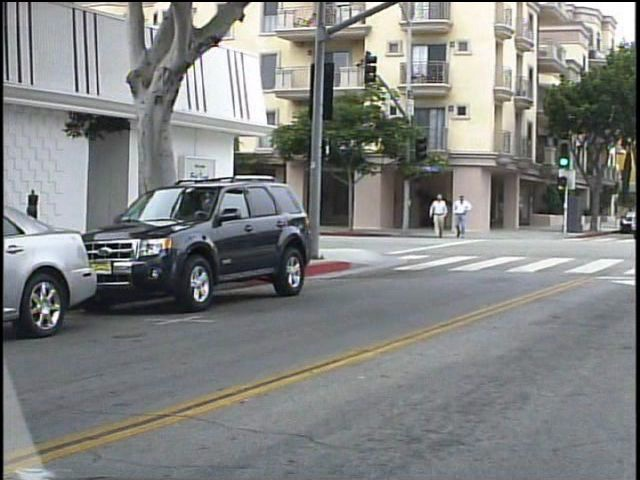person: (427, 190, 451, 244), (451, 191, 474, 243)
